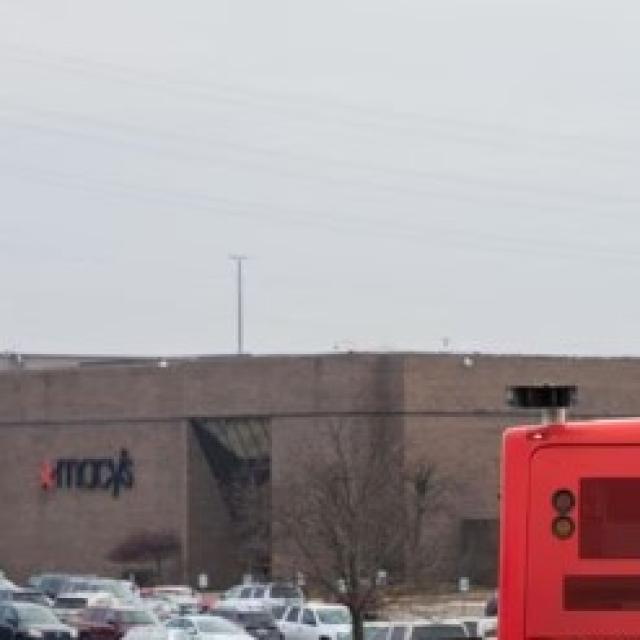bus: (487, 406, 640, 640)
car: (340, 619, 498, 640), (0, 600, 77, 640), (109, 621, 210, 640)
